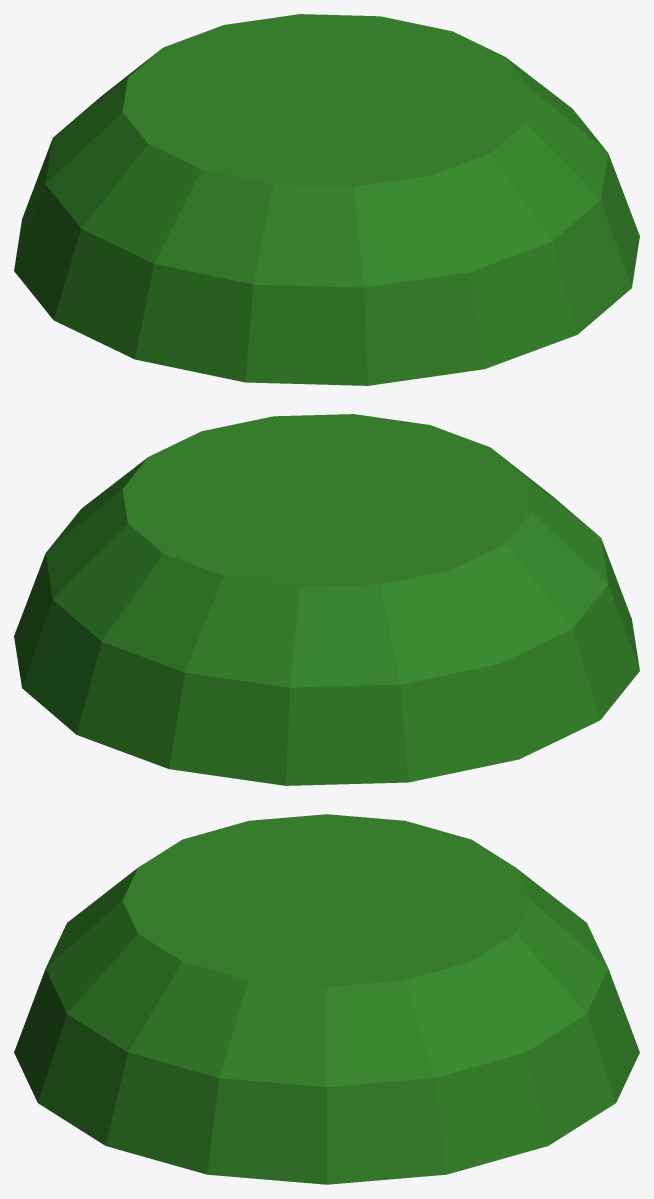
File: Turret0.glb
3 renders of one model, top to bottom at view 1: azimuth 30°, elevation 25°; view 2: azimuth 150°, elevation 25°; view 3: azimuth 270°, elevation 25°, orthographic.
Visible parts, largest first — view 1: Turret0; view 2: Turret0; view 3: Turret0.
Part boxes in pixels (box(x1,y1,x2,y2)): Turret0: box(14, 14, 639, 385); Turret0: box(14, 414, 639, 785); Turret0: box(14, 814, 639, 1184).
Bounding box in the file's own units: 1.15 × 0.3076 × 1.15.
